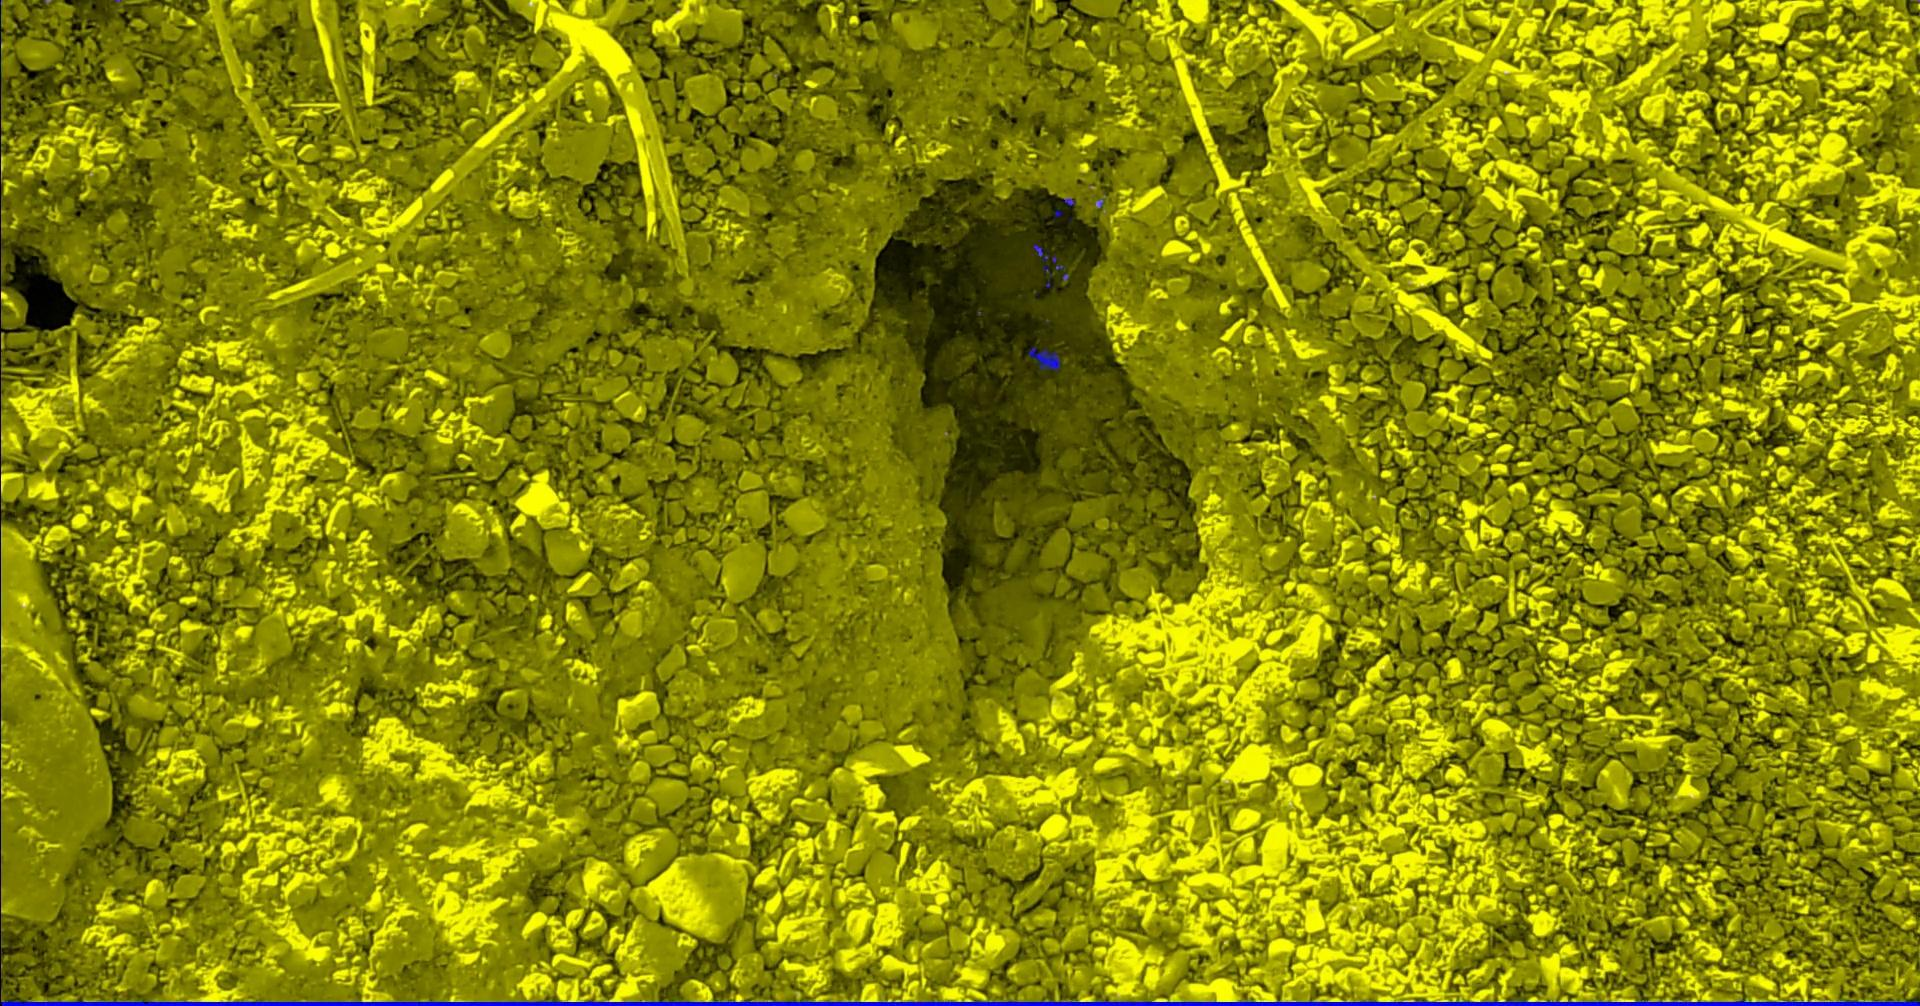ant: (1032, 243, 1068, 279), (1027, 345, 1060, 370)
